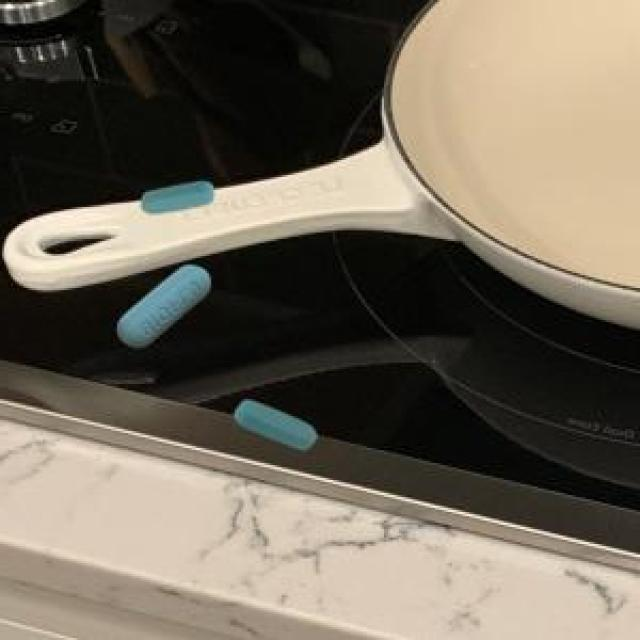Bioflu: (101, 252, 222, 360), (221, 388, 329, 464), (130, 167, 231, 219)
